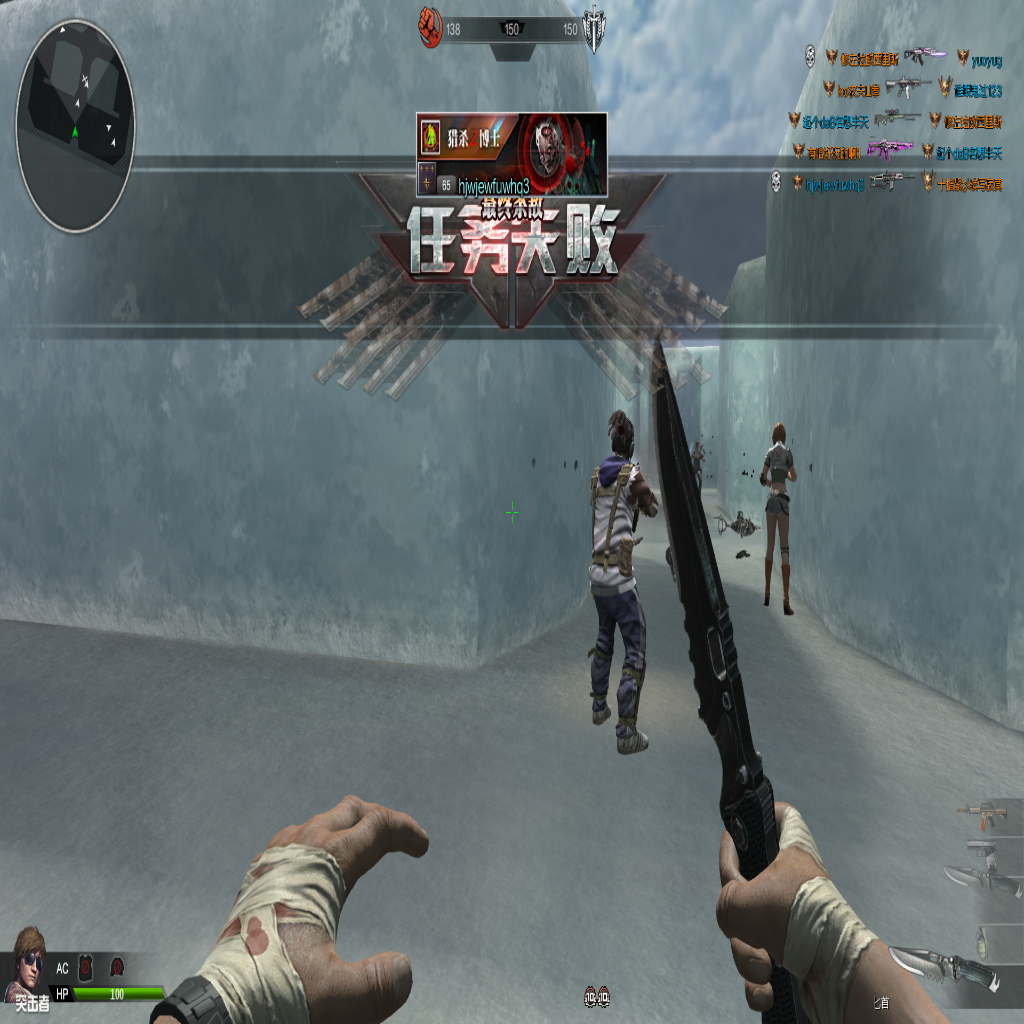tt: (586, 417, 654, 749), (759, 419, 798, 615)
